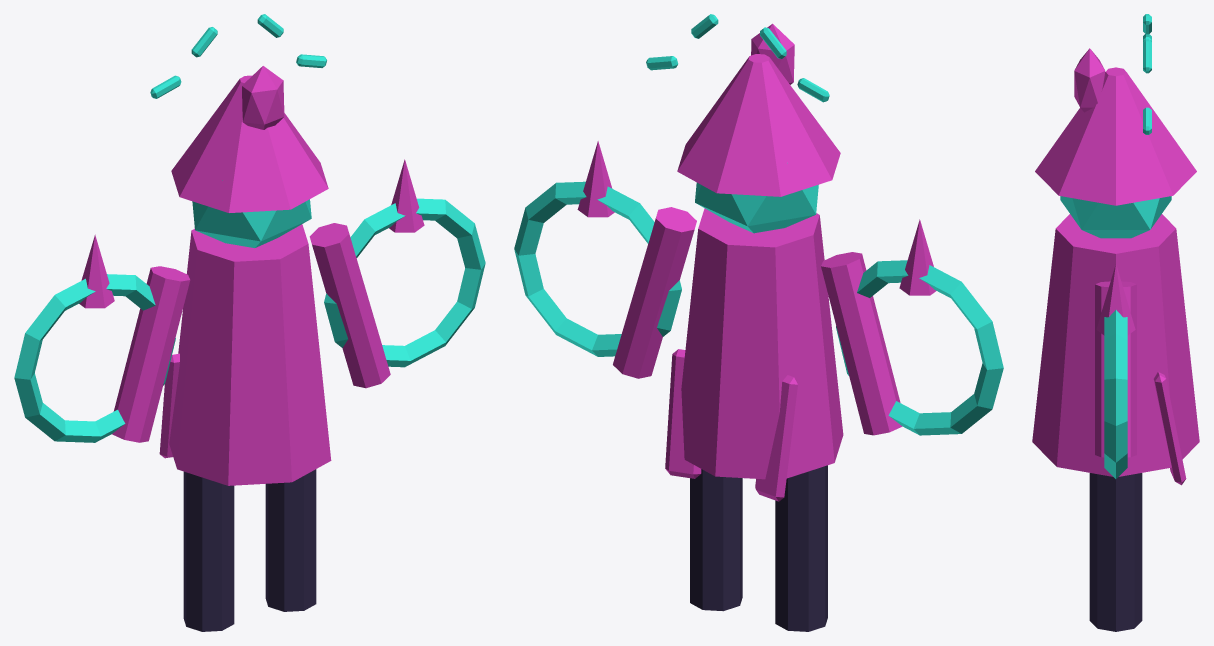
File: hero_rift_dancer.glb
The picture shows the model from 3 angles, left to right: view 1: azimuth 30°, elevation 25°; view 2: azimuth 150°, elevation 25°; view 3: azimuth 270°, elevation 25°; orthographic projection. The views are drawn at different scales.
Visible parts, largest first — view 1: hero_rift_dancer; view 2: hero_rift_dancer; view 3: hero_rift_dancer.
Boxes of the visible parts, x1=… form: hero_rift_dancer: x1=14, y1=14, x2=485, y2=631; hero_rift_dancer: x1=514, y1=14, x2=1003, y2=631; hero_rift_dancer: x1=1032, y1=14, x2=1199, y2=631.
Bounding box in the file's own units: 2.07 × 2.42 × 0.64.
